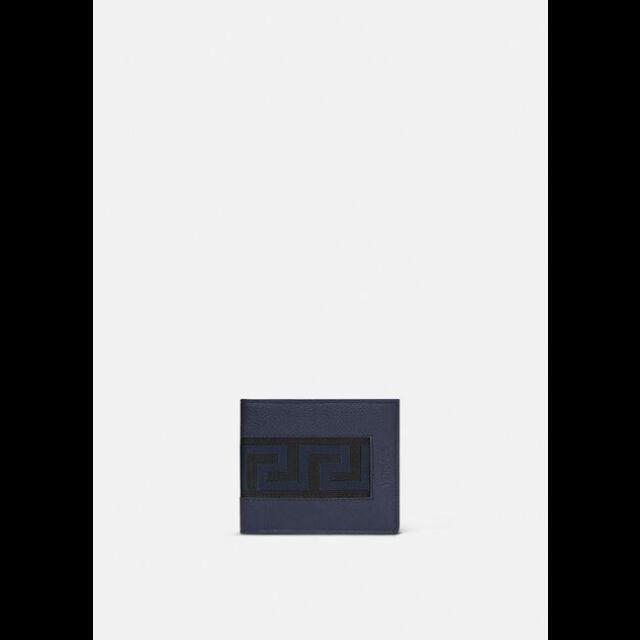Wallet: (229, 391, 409, 542)
